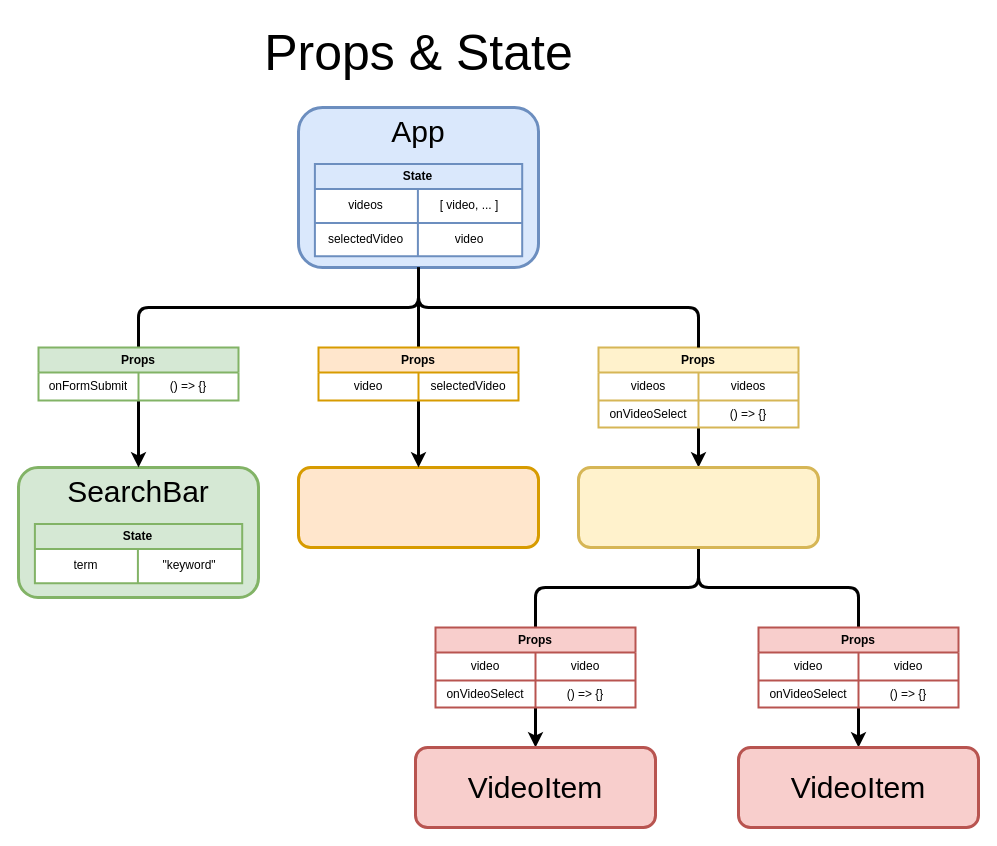
Image size: 997x846. Some labels were removed from this diagram. The centre of each missing label's shape, as x and y in pixels:
"VideoDetail" belongs at point (418, 507).
"VideoList" belongs at point (698, 507).
